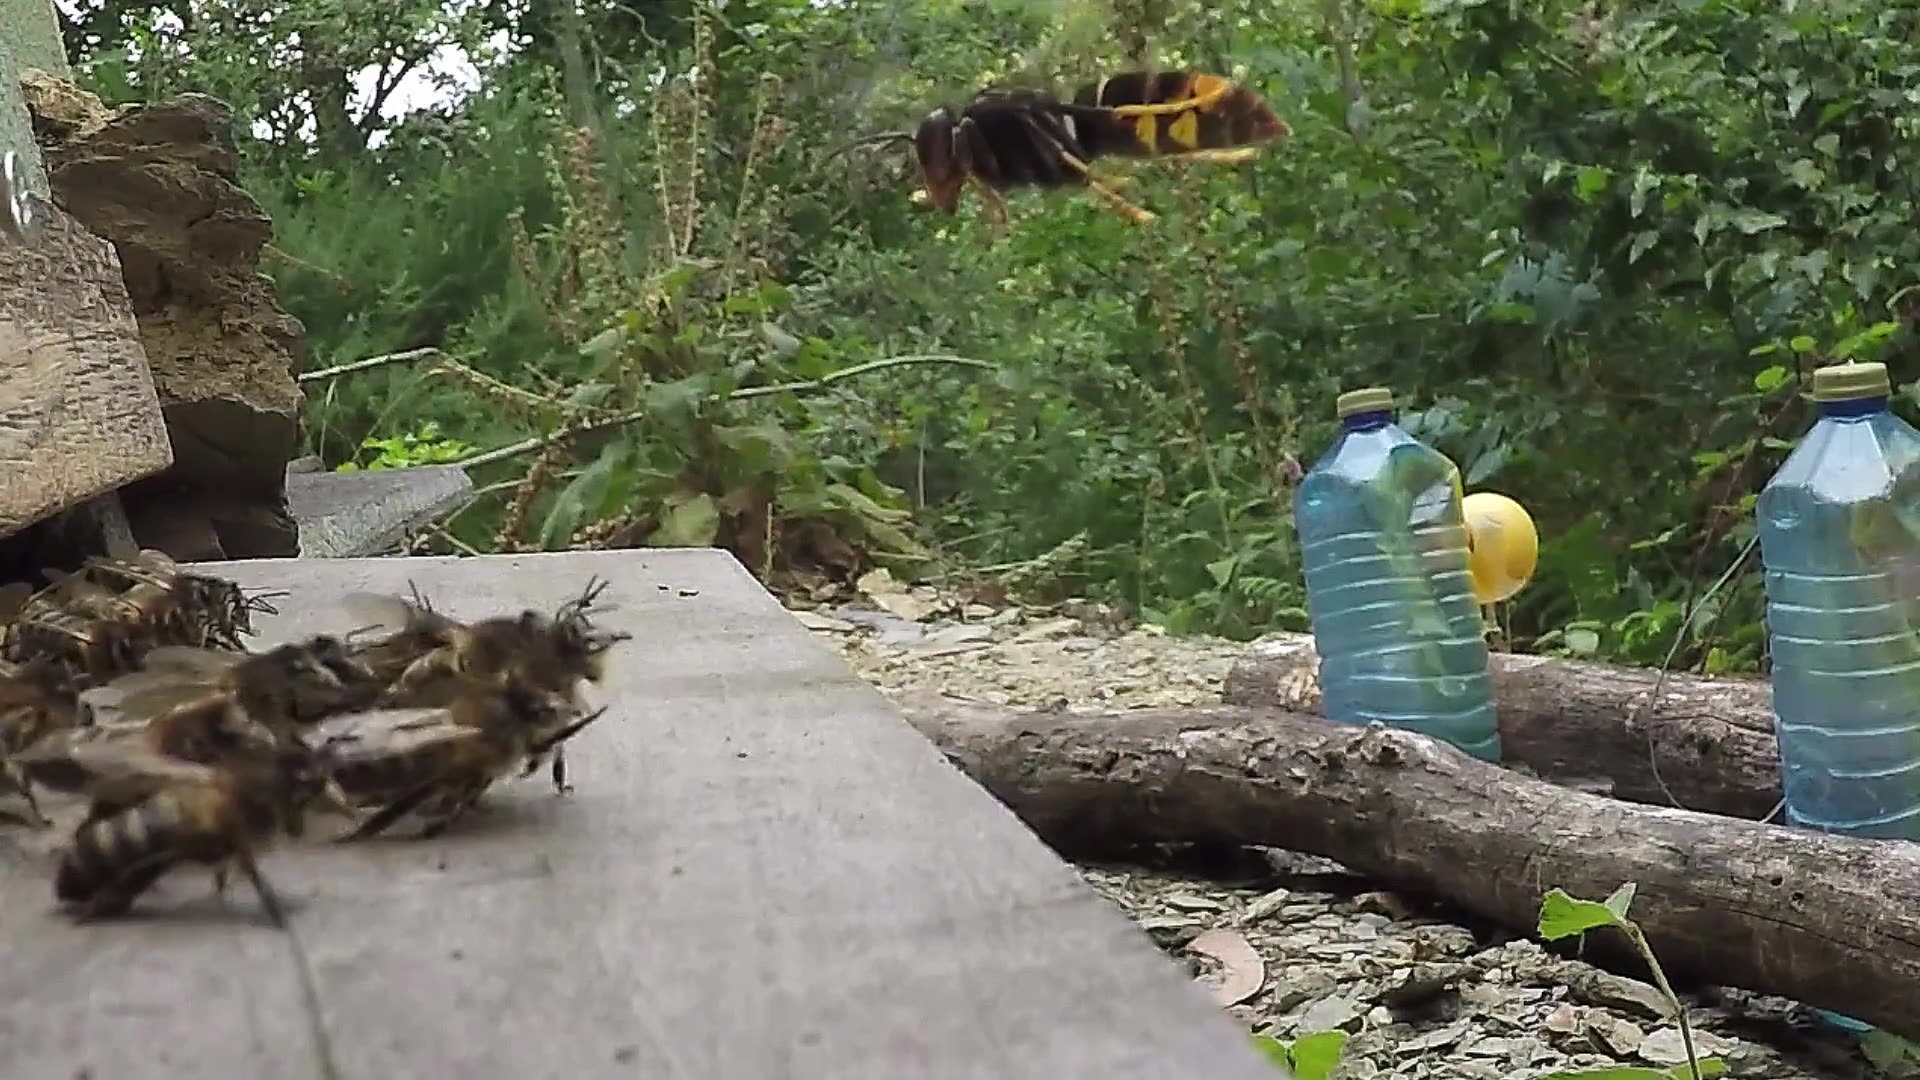bee: (280, 576, 636, 831), (8, 709, 302, 907), (15, 555, 280, 704)
hornet: (895, 37, 1304, 241)
